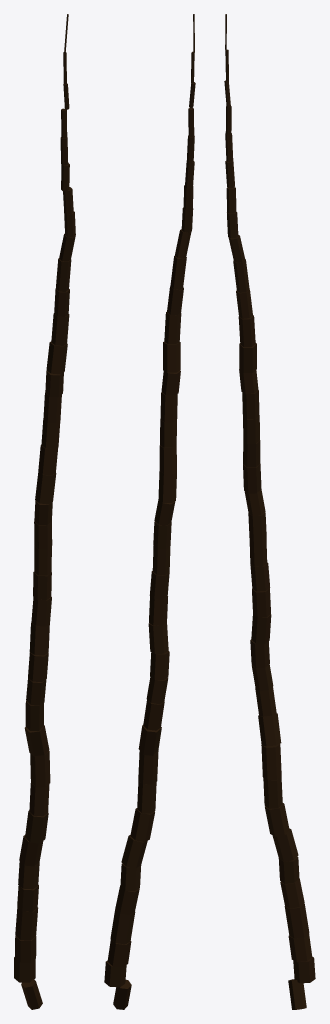
The model's file is tree_531_no_leaf.obj.
3 renders of one model, left to right at view 1: azimuth 90°, elevation 25°; view 2: azimuth 150°, elevation 25°; view 3: azimuth 330°, elevation 25°, orthographic. The views are drawn at different scales.
Parts seen in each view (by area): view 1: TrunkAndBranches; view 2: TrunkAndBranches; view 3: TrunkAndBranches.
Part boxes in pixels (x1,y1,x2,y2): TrunkAndBranches: (14, 14, 75, 1009); TrunkAndBranches: (104, 14, 195, 1009); TrunkAndBranches: (224, 14, 315, 1009).
Size of the model in its own units: 0.5196 by 7.24 by 0.3971.
